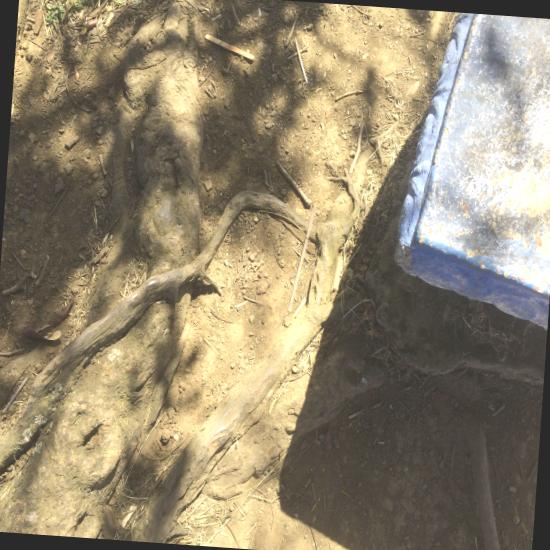Plastic straw: (287, 202, 316, 311)
Unlabeled litter: (295, 39, 307, 83)
